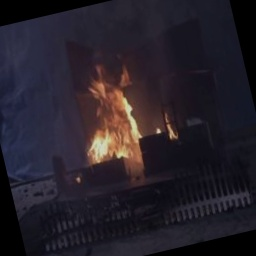fire: (72, 57, 157, 173)
